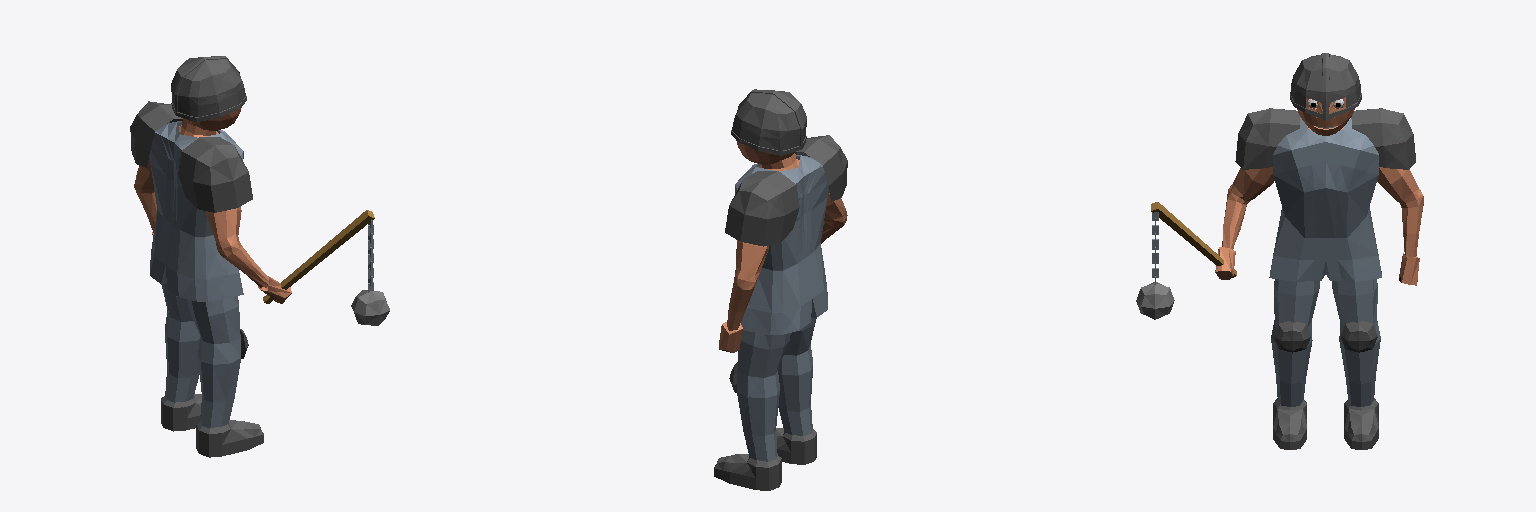
The picture shows the model from 3 angles: view 1: azimuth 30°, elevation 25°; view 2: azimuth 150°, elevation 25°; view 3: azimuth 270°, elevation 25°; orthographic projection.
Visible parts, largest first — view 1: Cube_Cube.002; view 2: Cube_Cube.002; view 3: Cube_Cube.002.
Boxes of the visible parts, x1,y1,x2,y2 form: Cube_Cube.002: [130, 56, 389, 457]; Cube_Cube.002: [714, 89, 847, 490]; Cube_Cube.002: [1136, 53, 1423, 449].
Bounding box in the file's own units: 2.6 × 6.8 × 4.69.
Materials: 1 (1 with a texture image).